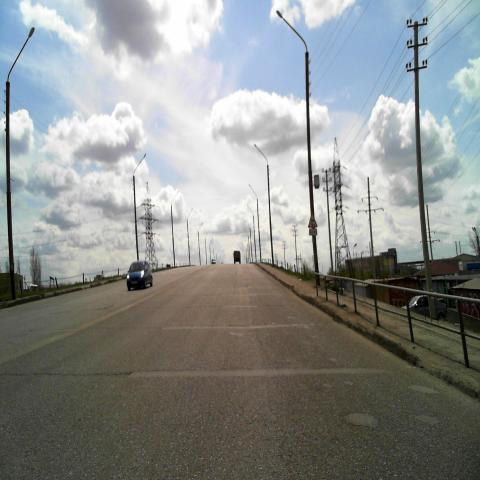1_15: (307, 214, 318, 228)
